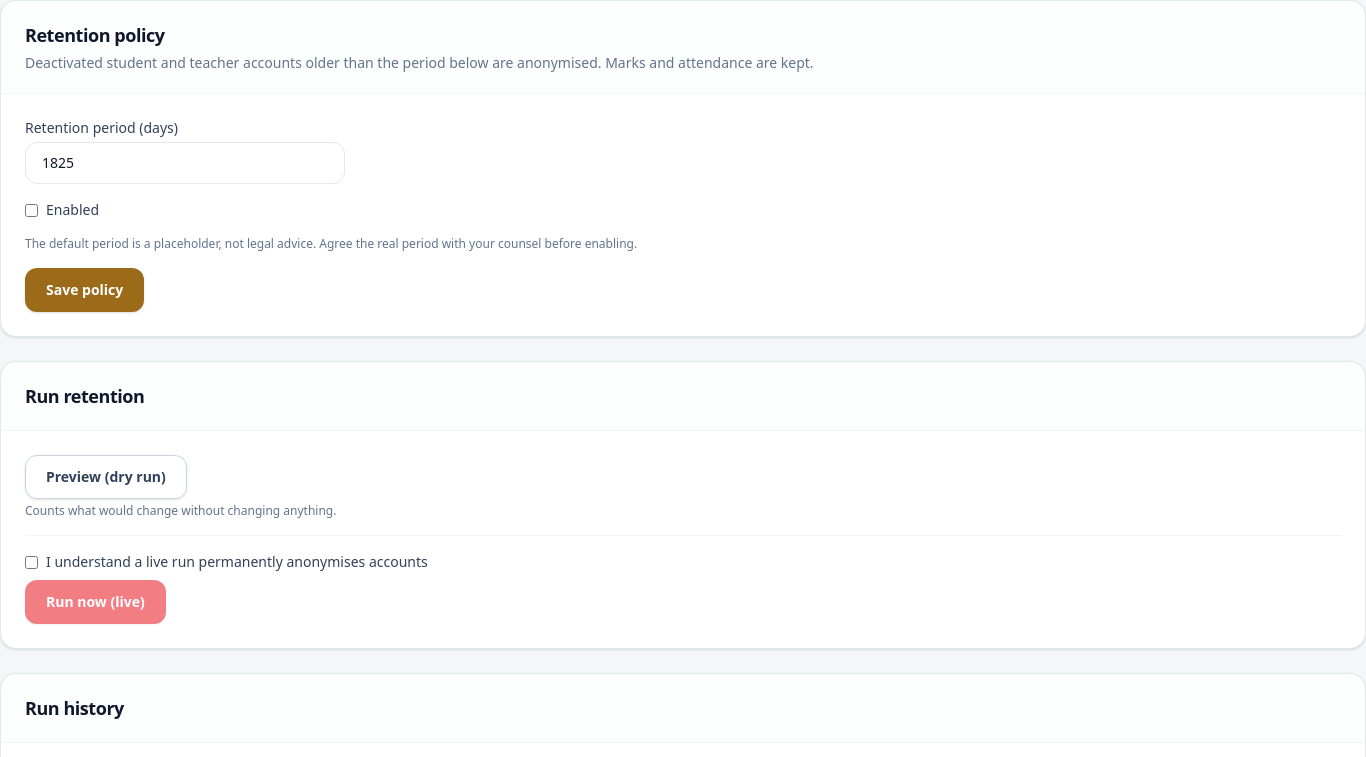
it: PrivacyRetentionTab › re-locks the live run after it fails
Click the checkbox labelled "I understand a live run permanently anonymises accounts" at (32, 562), box [25, 556, 38, 568]
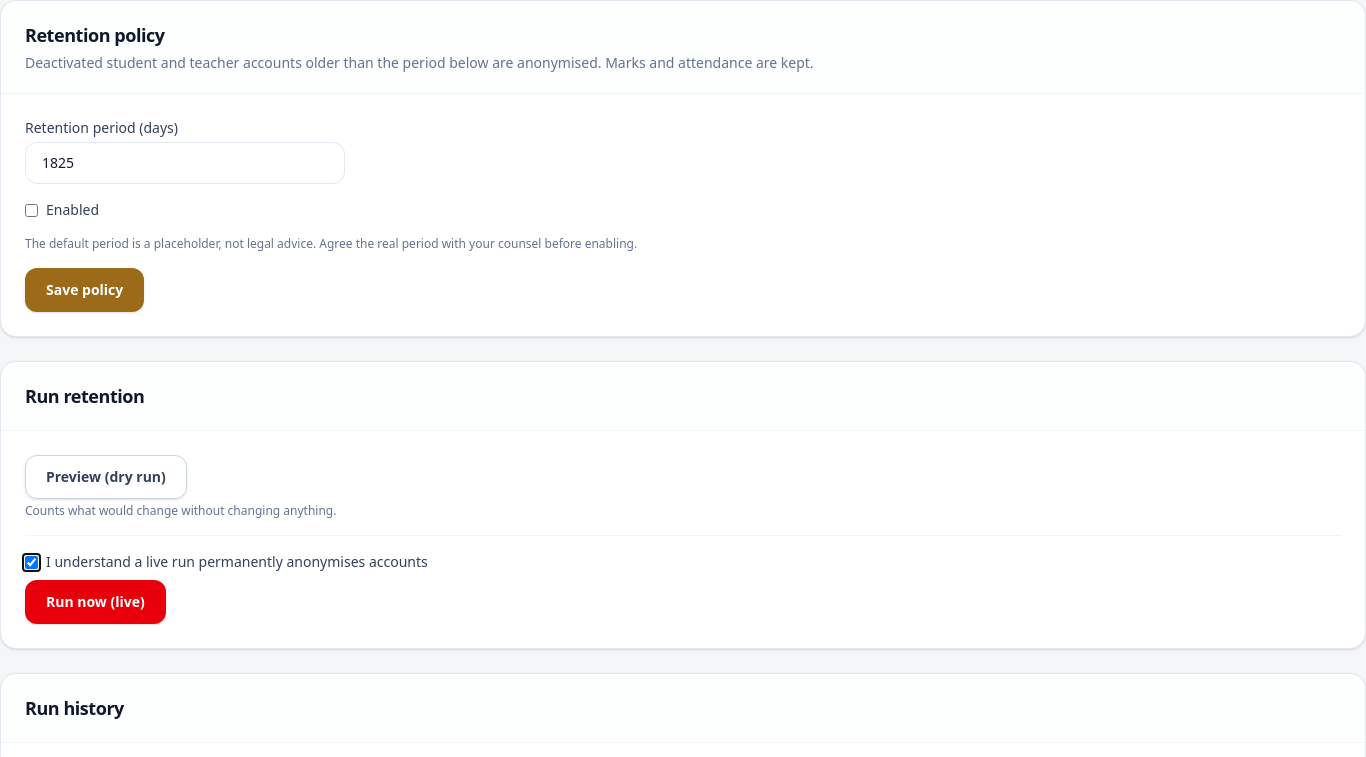
Click the button "Run now (live)" at (95, 602), box [25, 580, 166, 624]
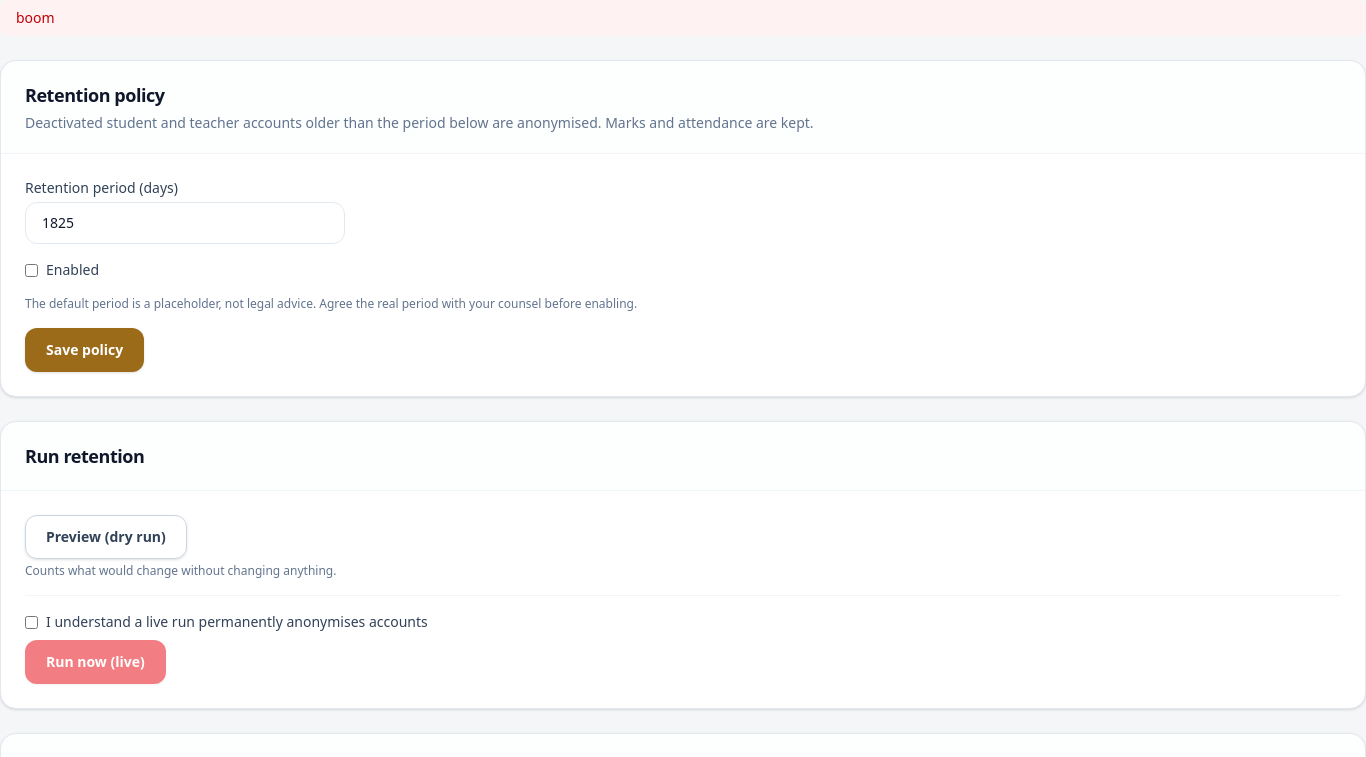
expect the checkbox labelled "I understand a live run permanently anonymises accounts" is not checked: met, box [25, 616, 38, 628]
expect the message "boom" is shown: met, box [0, 0, 1365, 36]
expect the button "Run now (live)" is disabled: met, box [25, 640, 166, 684]
